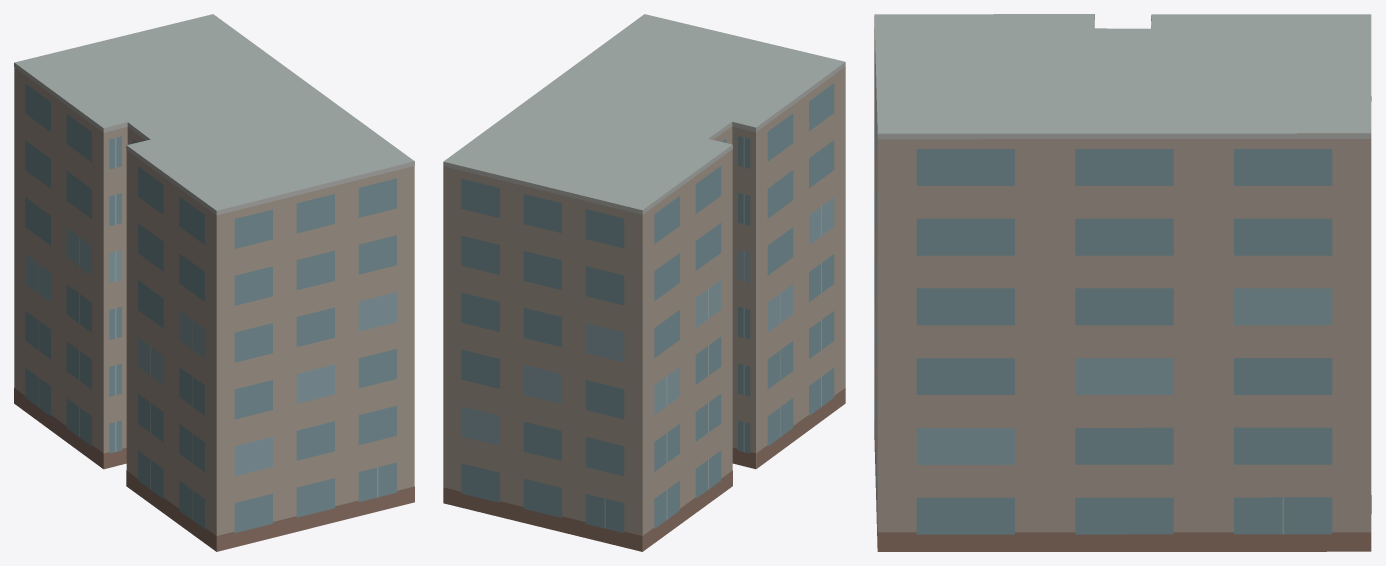
File: survey-upis-32961423.glb
The picture shows the model from 3 angles, left to right: view 1: azimuth 30°, elevation 25°; view 2: azimuth 150°, elevation 25°; view 3: azimuth 270°, elevation 25°; orthographic projection. The views are drawn at different scales.
Parts seen in each view (by area): view 1: survey-upis-32961423.tmp; view 2: survey-upis-32961423.tmp; view 3: survey-upis-32961423.tmp.
Boxes of the visible parts, box(x1,y1,x2,y2) form: survey-upis-32961423.tmp: box(14, 14, 414, 551); survey-upis-32961423.tmp: box(443, 14, 845, 551); survey-upis-32961423.tmp: box(874, 14, 1371, 551).
Size of the model in its own units: 11.23 by 18.3 by 19.72.
